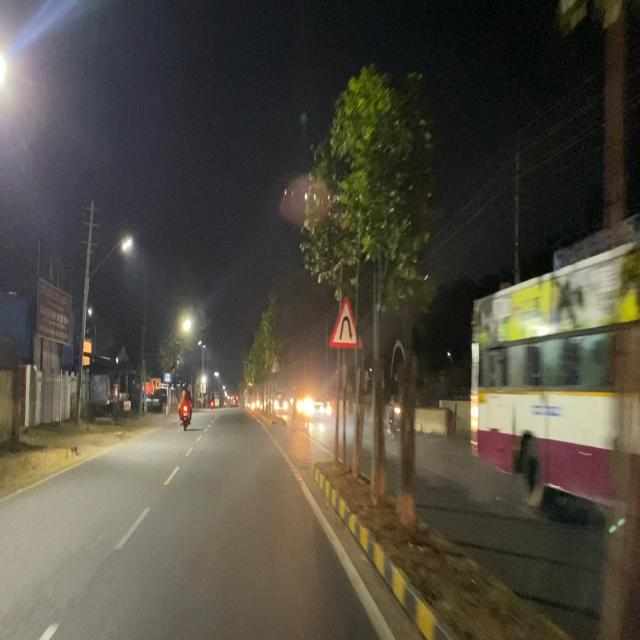bien_cam: (329, 294, 363, 352)
